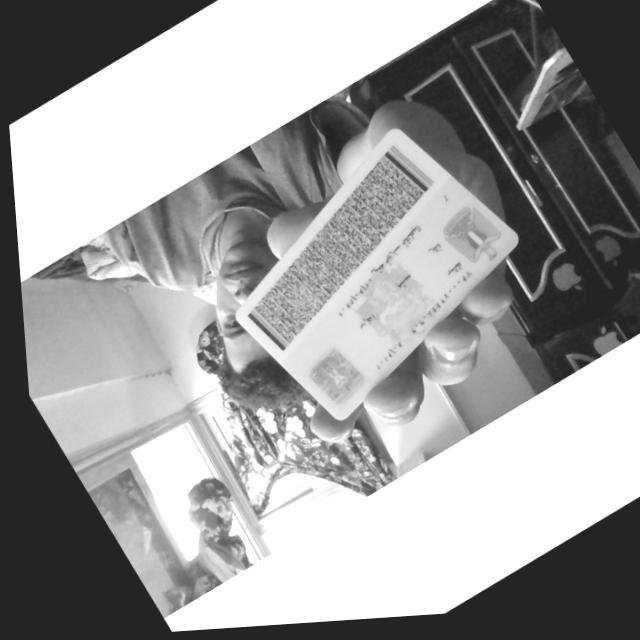back: (236, 129, 517, 418)
